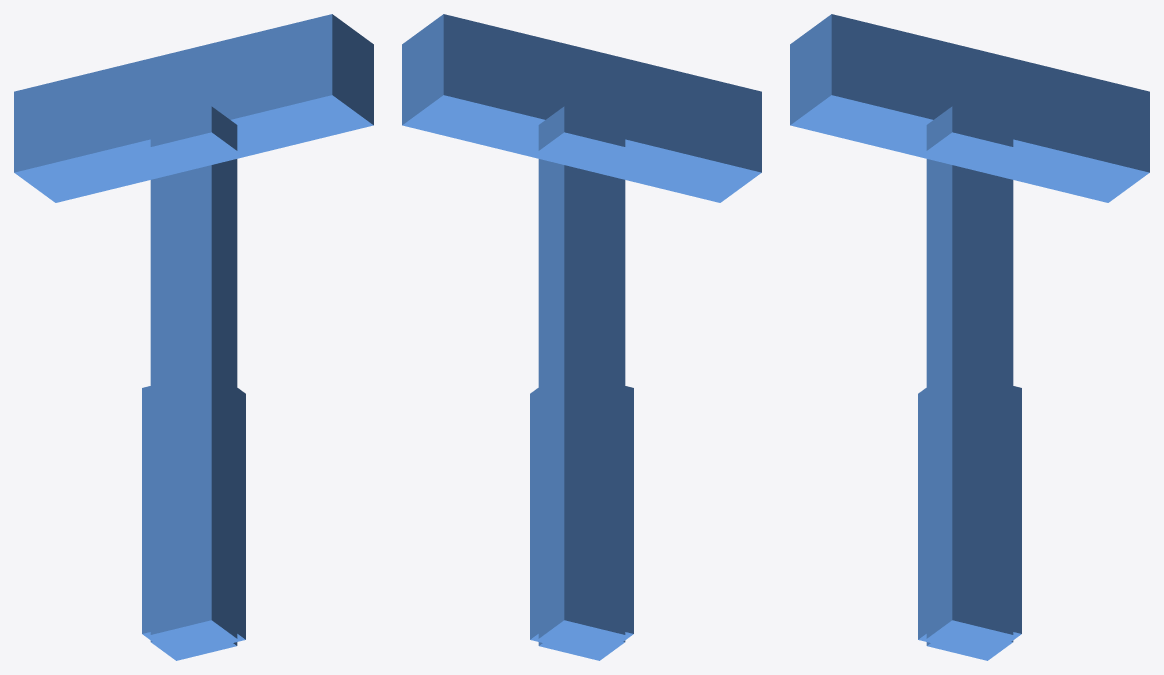
The model's file is hand_tools_claw_hammer.gltf.
The picture shows the model from 3 angles, left to right: view 1: azimuth 30°, elevation 25°; view 2: azimuth 150°, elevation 25°; view 3: azimuth 330°, elevation 25°; orthographic projection.
Visible parts, largest first — view 1: hand_tools_claw_hammer; view 2: hand_tools_claw_hammer; view 3: hand_tools_claw_hammer.
Boxes of the visible parts, left/top/right/bottom form: hand_tools_claw_hammer: left=14, top=14, right=373, bottom=660; hand_tools_claw_hammer: left=402, top=14, right=761, bottom=660; hand_tools_claw_hammer: left=790, top=14, right=1149, bottom=660.
Bounding box in the file's own units: 1.15 × 1.99 × 0.26.
